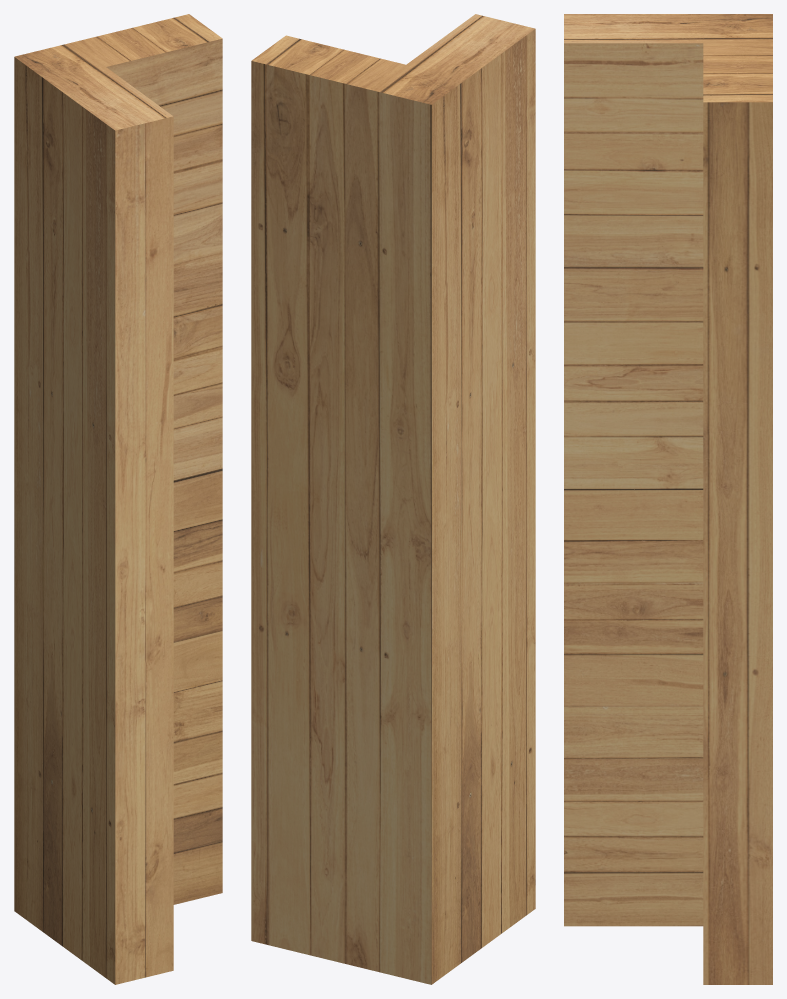
File: angle05_v3.fbx
The picture shows the model from 3 angles, left to right: view 1: azimuth 30°, elevation 25°; view 2: azimuth 150°, elevation 25°; view 3: azimuth 270°, elevation 25°; orthographic projection. The views are drawn at different scales.
Parts seen in each view (by area): view 1: angle05_v3; view 2: angle05_v3; view 3: angle05_v3.
Boxes of the visible parts, box(x1,y1,x2,y2) form: angle05_v3: box(14, 14, 222, 984); angle05_v3: box(251, 14, 535, 984); angle05_v3: box(564, 14, 772, 984).
Size of the model in its own units: 75 by 350 by 75.
